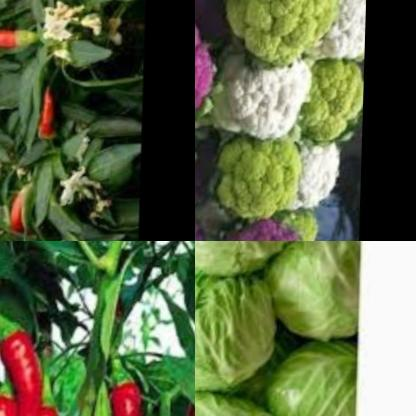cabbage: (195, 241, 365, 416)
cayliflower: (216, 49, 327, 147), (226, 0, 348, 73), (215, 139, 312, 221), (297, 57, 367, 152), (286, 132, 347, 216), (195, 6, 227, 144), (308, 0, 369, 70), (211, 218, 307, 241), (282, 210, 324, 241)
hot pepper: (0, 296, 49, 416), (31, 88, 65, 143), (0, 187, 30, 241)
